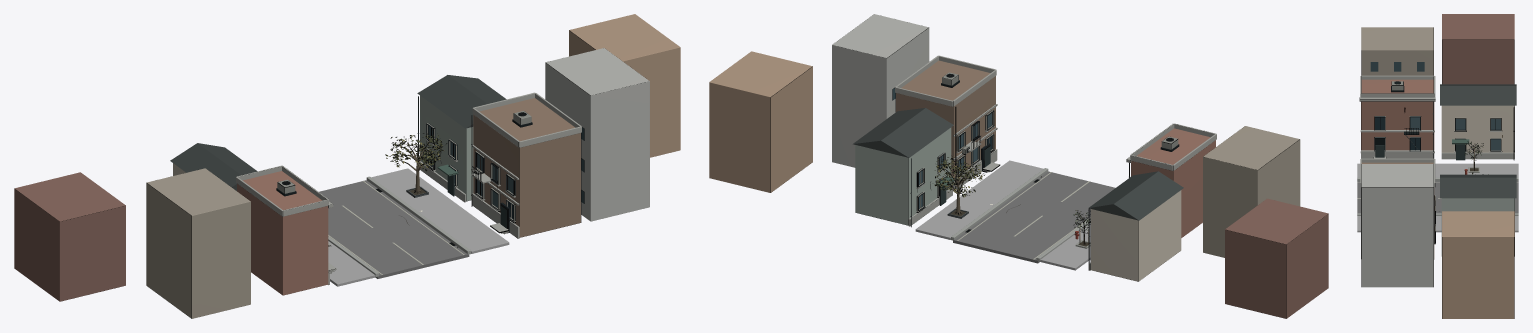
Rendered from city_hd_03.glb.
3 views of the same model, side by side, from view 1: azimuth 30°, elevation 25°; view 2: azimuth 150°, elevation 25°; view 3: azimuth 270°, elevation 25° (orthographic). The views are drawn at different scales.
Visible parts, largest first — view 1: Background city building, CITY_PBR_asphalt, CITY_PBR_pavement, CITY_curb; view 2: Background city building, CITY_PBR_asphalt, CITY_PBR_pavement, CITY_curb; view 3: Background city building, CITY_PBR_pavement, CITY_PBR_asphalt.
Part boxes in pixels (left/top/right/bottom): Background city building: left=14, top=14, right=680, bottom=318; CITY_PBR_asphalt: left=319, top=180, right=469, bottom=278; CITY_PBR_pavement: left=328, top=168, right=509, bottom=286; CITY_curb: left=328, top=176, right=470, bottom=277; Background city building: left=709, top=14, right=1328, bottom=318; CITY_PBR_asphalt: left=953, top=171, right=1115, bottom=263; CITY_PBR_pavement: left=915, top=160, right=1090, bottom=270; CITY_curb: left=951, top=168, right=1090, bottom=261; Background city building: left=1359, top=14, right=1516, bottom=318; CITY_PBR_pavement: left=1357, top=163, right=1518, bottom=232; CITY_PBR_asphalt: left=1357, top=181, right=1518, bottom=213.
Size of the model in its own units: 56.65 by 11.26 by 16.
Materials: 9 (1 with a texture image).
